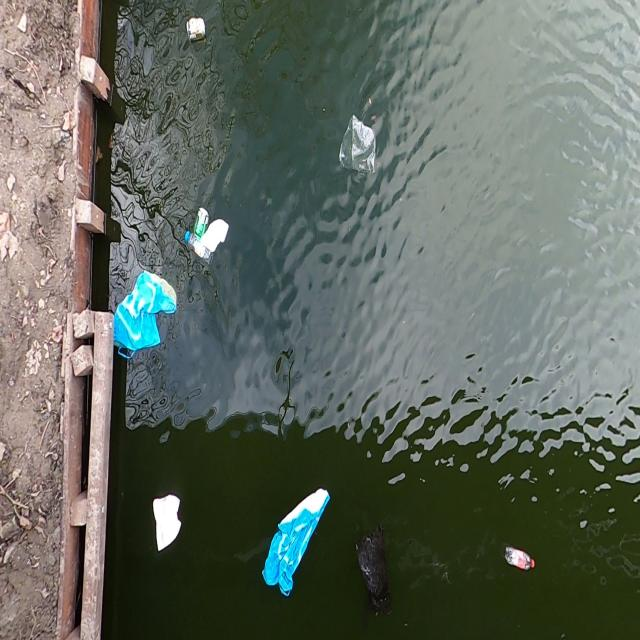Autre plastique: (149, 490, 185, 556)
Bouteille plastique: (182, 223, 219, 276), (503, 544, 536, 574)
Non plastique: (183, 12, 209, 48)
Sac plastique: (258, 479, 334, 602), (110, 270, 180, 366), (349, 517, 398, 625), (334, 111, 380, 182)
